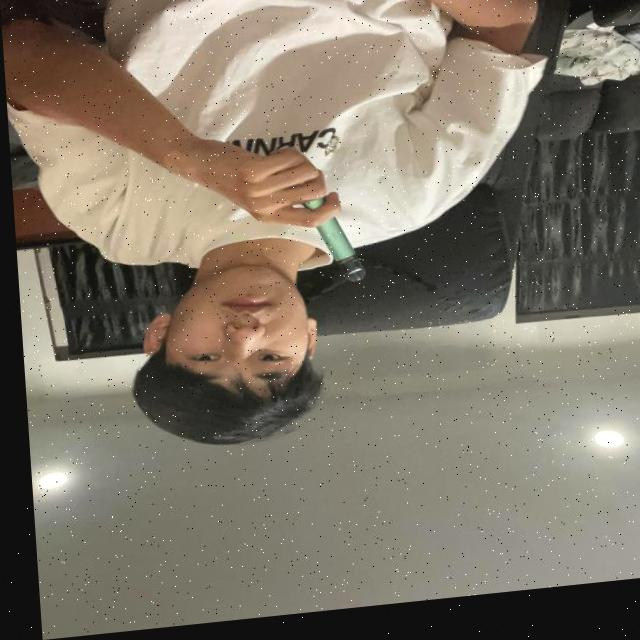vape: (300, 202, 363, 294)
